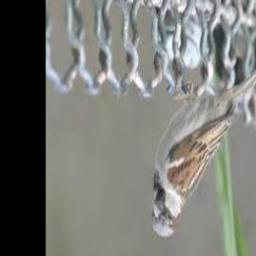Sparrow: (150, 53, 256, 238)
